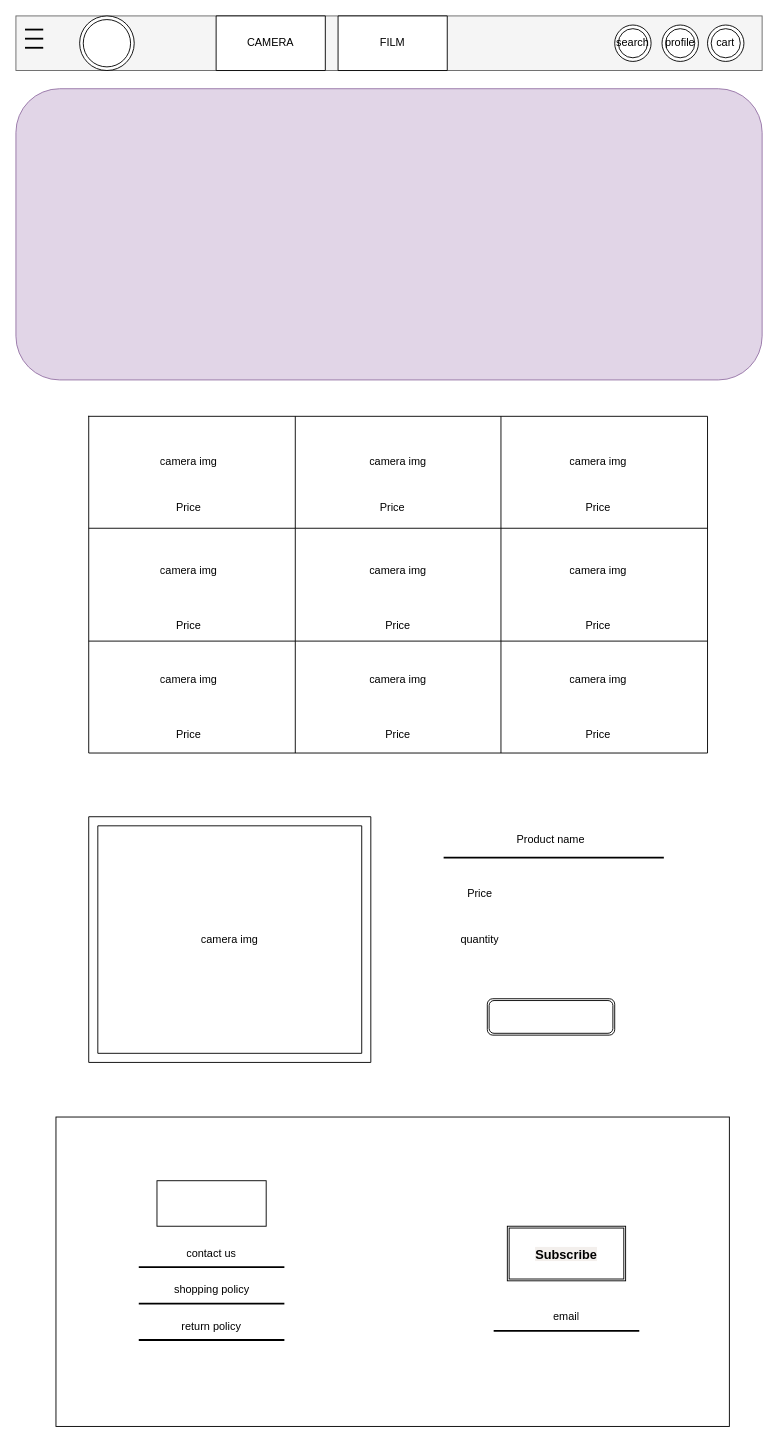
This 778x1442 diagram has some shape labels left out. Here are the shapes that lost their labels. From the top down, the centre of each, then its label:
[106,43]: logo
[550,1016]: buy button
[211,1203]: Quick link
